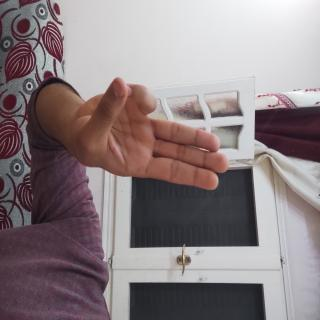THA: (52, 117, 153, 320)
